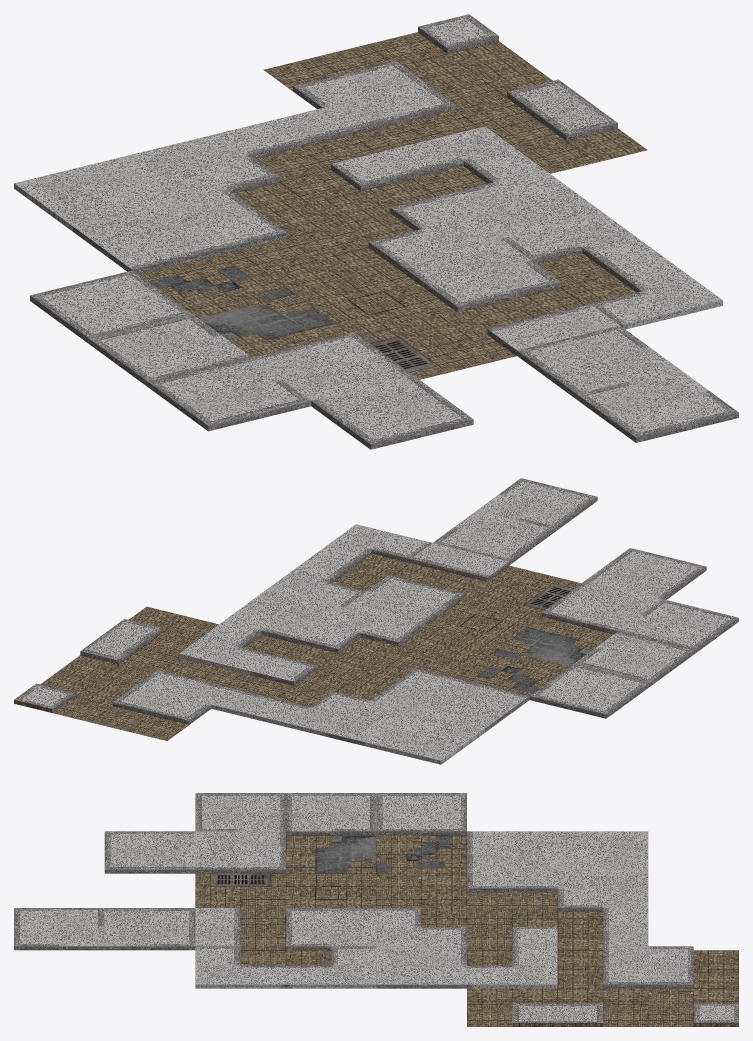
File: tilepiso.glb
3 views of the same model, one above another, from view 1: azimuth 30°, elevation 25°; view 2: azimuth 150°, elevation 25°; view 3: azimuth 270°, elevation 25° (orthographic). The views are drawn at different scales.
Parts seen in each view (by area): view 1: cordonG, cordonC2, cordonJ, cordonC, cordon2, esquinazalt, cordonGatl, cordonJalt, cordonO, cordon5, esquinaz, cordon1alt (+18 smaller); view 2: cordon5, cordonO, esquina3, pisocordonu, cordon1alt, cordon1, esquina3alt, esquinazalt, cordonJalt, cordon2, cordonGatl, cordonC2 (+18 smaller); view 3: cordonC, cordonJalt, cordon1, cordon2alt, cordonC2, cordonO, pisocordon2esquina, cordonGatl, pisocordon2esquina2, cordon1alt, esquina3alt, esquinaz (+18 smaller).
Part boxes in pixels (x1,y1,x2,y2): cordonG: [148, 357, 311, 431]; cordonC2: [576, 369, 738, 442]; cordonJ: [398, 238, 560, 312]; cordonC: [311, 376, 473, 449]; cordon2: [73, 201, 235, 274]; esquinazalt: [561, 257, 722, 329]; cordonGatl: [89, 314, 251, 387]; cordonJalt: [517, 325, 678, 399]; cordonO: [30, 270, 191, 343]; cordon5: [14, 158, 175, 231]; esquinaz: [501, 213, 663, 287]; cordon1alt: [117, 133, 279, 201]; cordon5: [364, 710, 485, 764]; cordonO: [529, 664, 650, 718]; esquina3: [300, 607, 420, 662]; pisocordonu: [91, 686, 211, 740]; cordon1alt: [288, 691, 408, 745]; cordon1: [541, 580, 661, 634]; esquina3alt: [179, 621, 299, 676]; esquinazalt: [312, 524, 431, 577]; cordonJalt: [433, 510, 553, 564]; cordon2: [409, 677, 529, 732]; cordonGatl: [574, 631, 694, 685]; cordonC2: [477, 478, 597, 532]; cordonC: [104, 831, 195, 873]; cordonJalt: [104, 908, 195, 950]; cordon1: [195, 831, 285, 873]; cordon2alt: [376, 946, 466, 988]; cordonC2: [14, 908, 104, 950]; cordonO: [376, 793, 466, 835]; pisocordon2esquina: [467, 869, 557, 911]; cordonGatl: [286, 793, 376, 835]; pisocordon2esquina2: [557, 946, 648, 988]; cordon1alt: [557, 869, 648, 911]; esquina3alt: [467, 946, 557, 988]; esquinaz: [286, 946, 376, 988].
Bounding box in the file's own units: 12 × 0.1 × 16.
9 materials, 9 textured.
